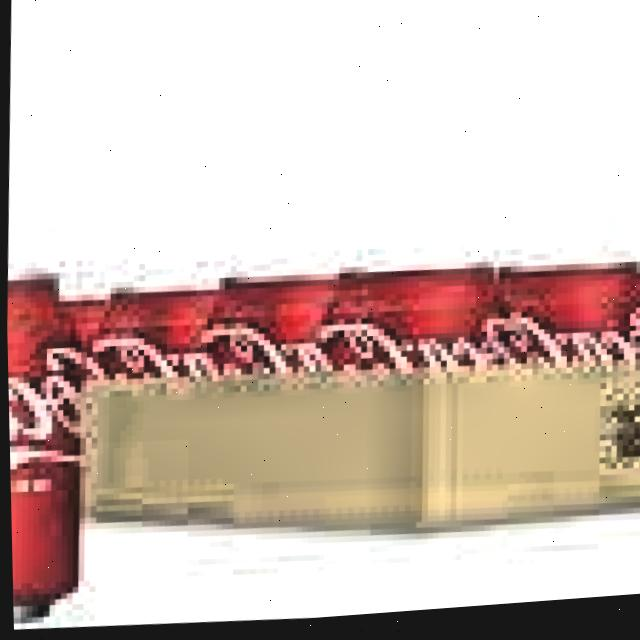metal: (5, 257, 93, 631), (310, 248, 500, 408), (478, 243, 640, 400), (204, 262, 342, 389), (85, 269, 217, 388), (608, 258, 640, 387)
